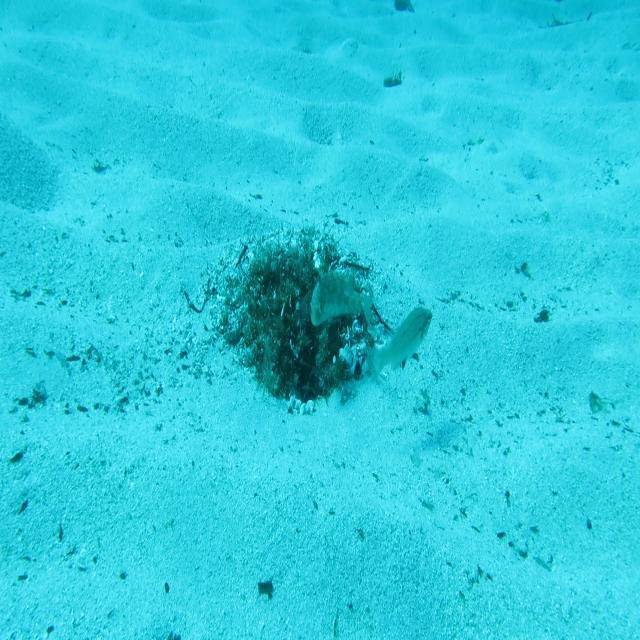LF: (309, 266, 374, 332)
core_nest: (269, 254, 322, 294)
female: (366, 305, 433, 389)
nest: (208, 221, 390, 428)
